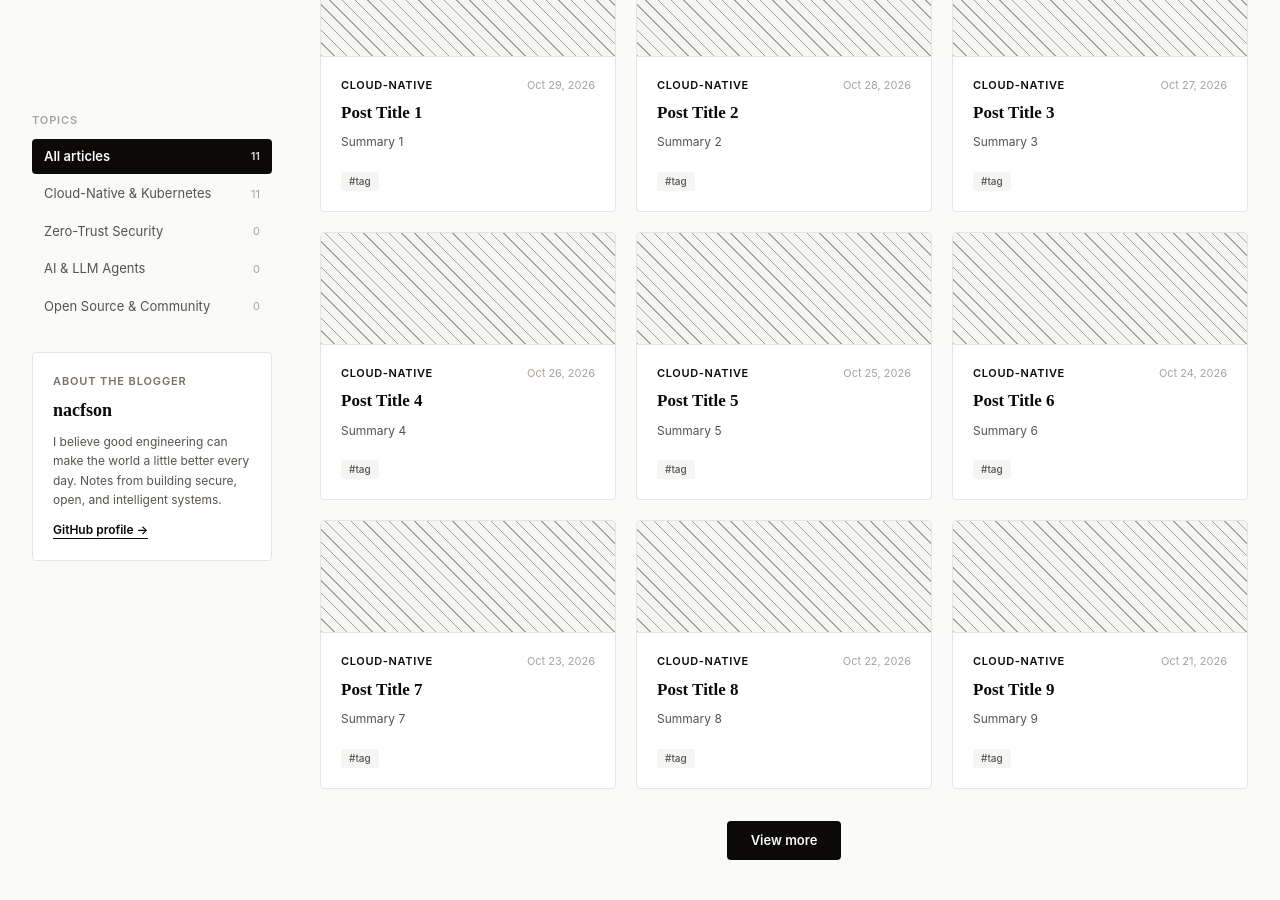
Test: HomePage › paginates the grid with View more
(page scrolled)
Click the button "View more": (784, 840) [727,821,841,860]
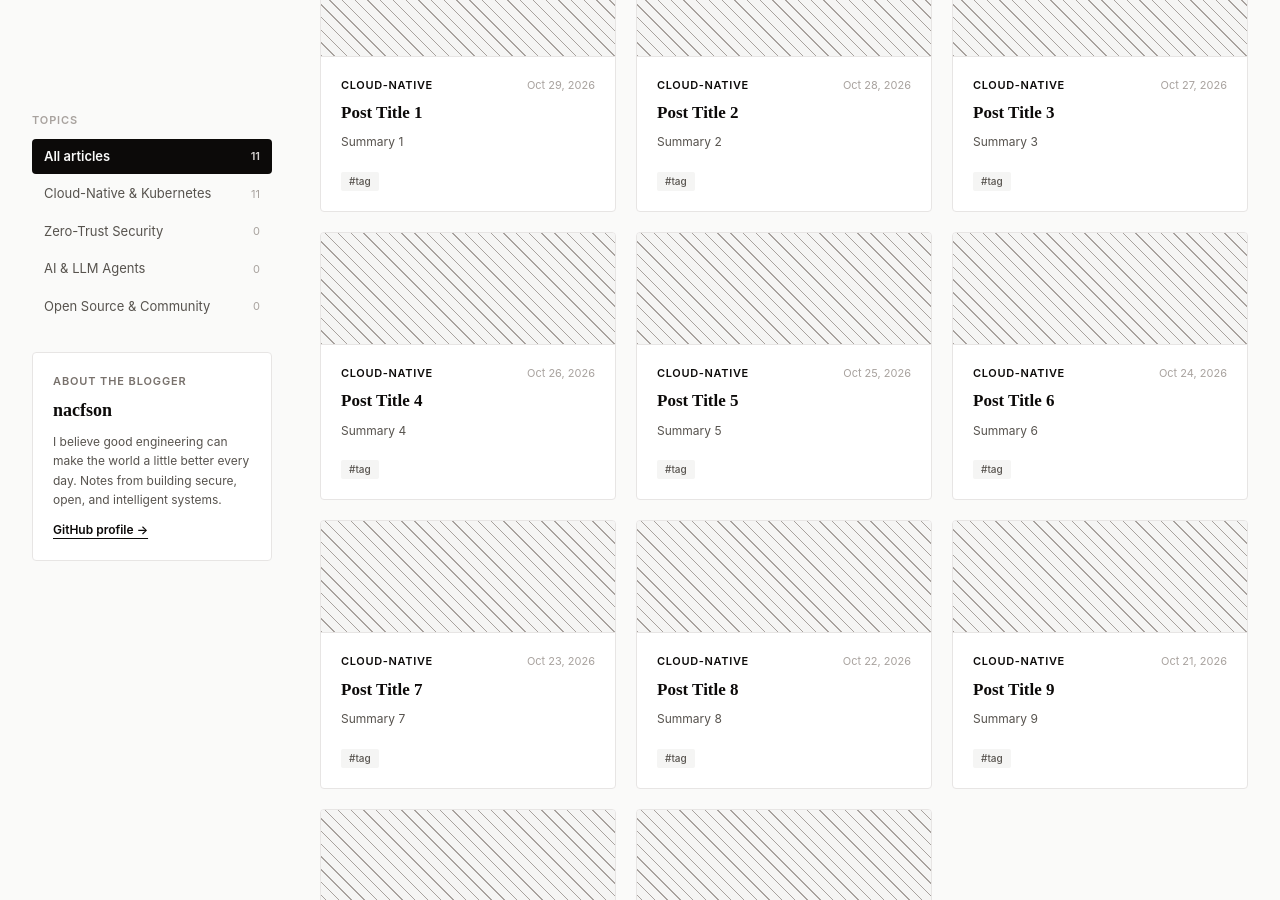
Expected: the button "View more" is gone
